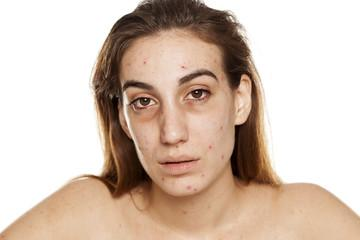Eyebags: (133, 107, 160, 123), (183, 99, 210, 113)
